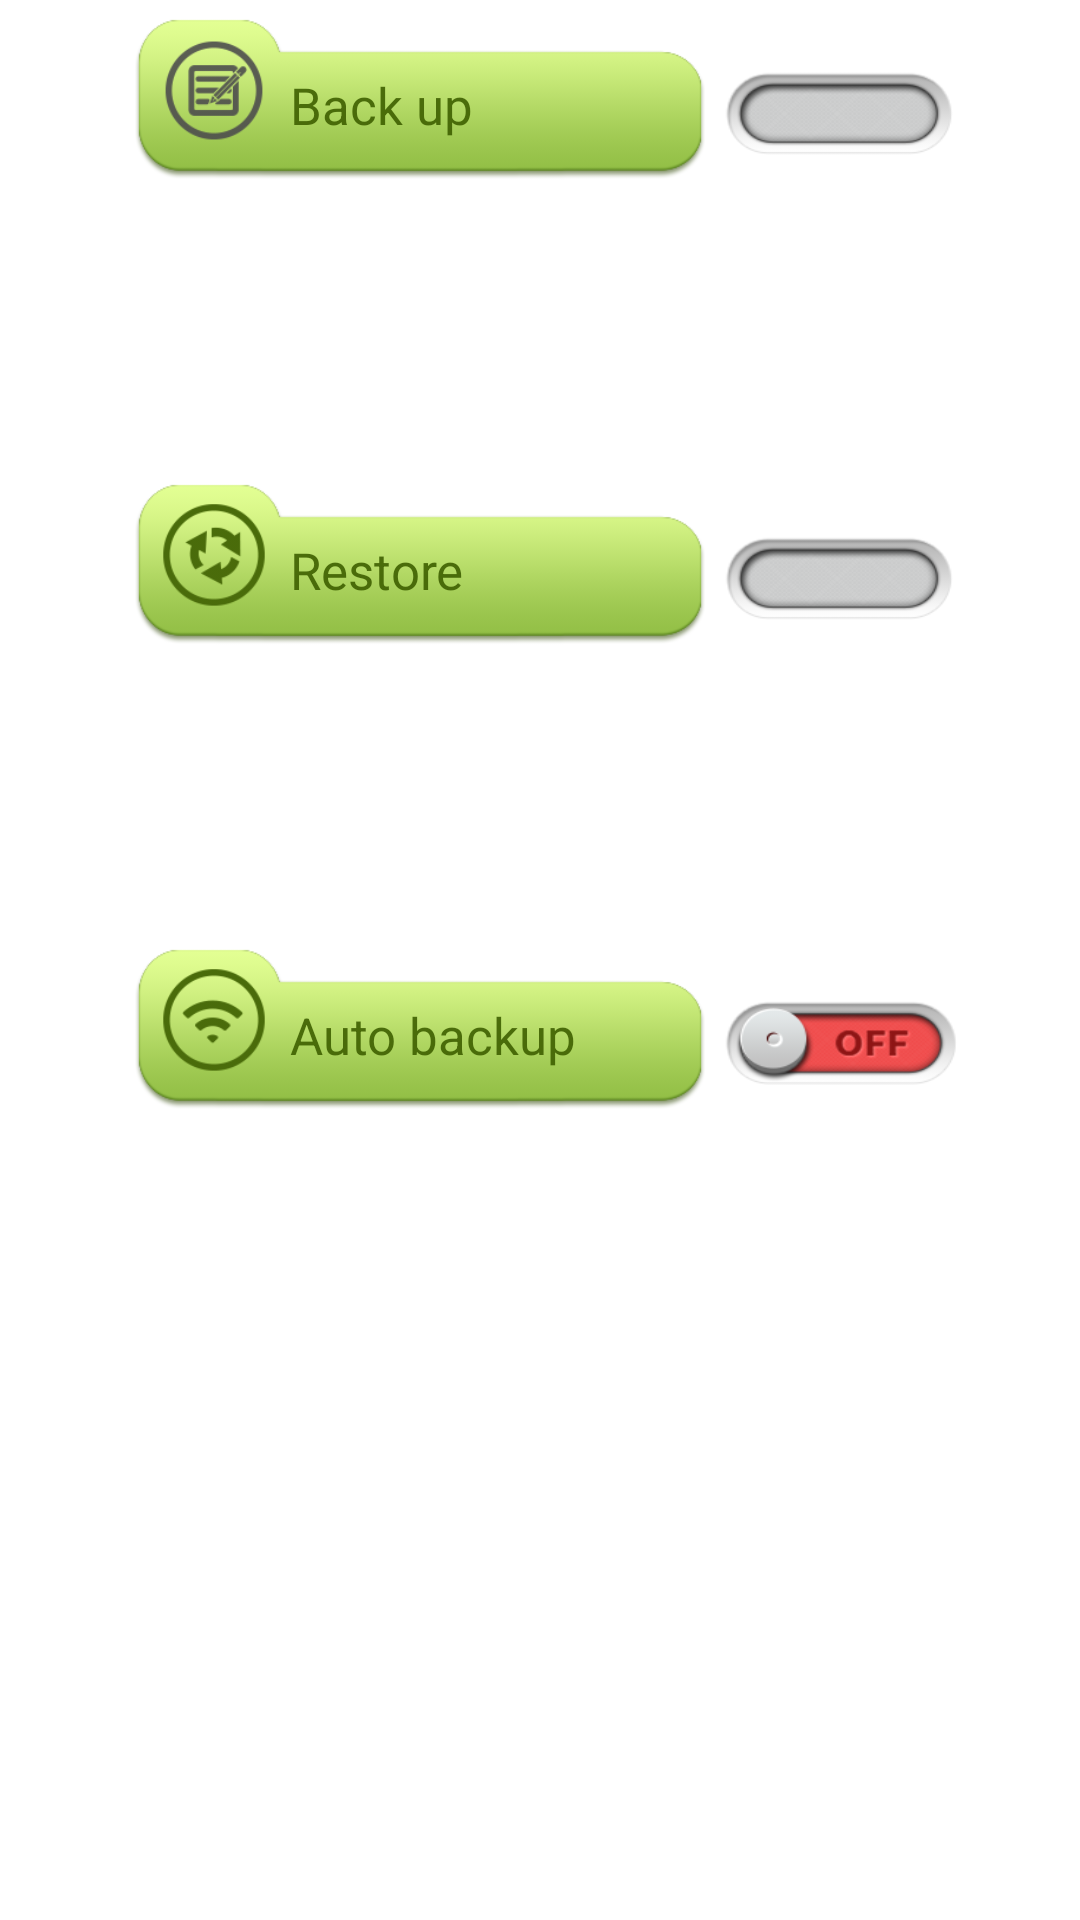

Where icons sit on this 1080px×1920px app screen, as (x1, y1, x2, y2):
switch empty: (727, 74, 951, 153), (727, 539, 951, 618)
